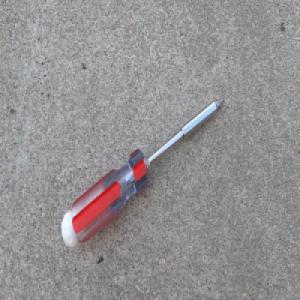Screwdriver: (61, 96, 226, 248)
